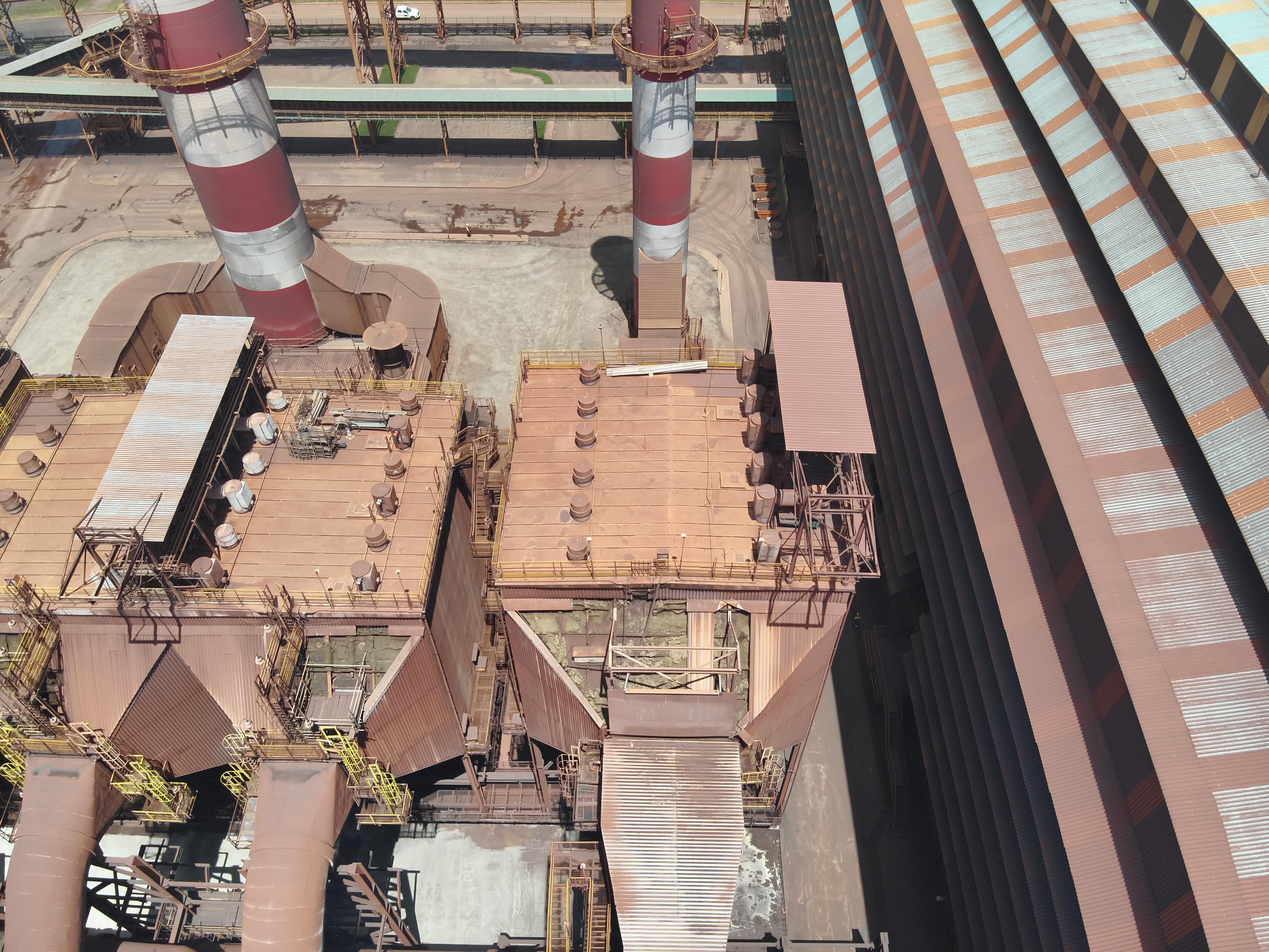Failures: (509, 595, 697, 738), (299, 619, 417, 728), (710, 603, 755, 735)
